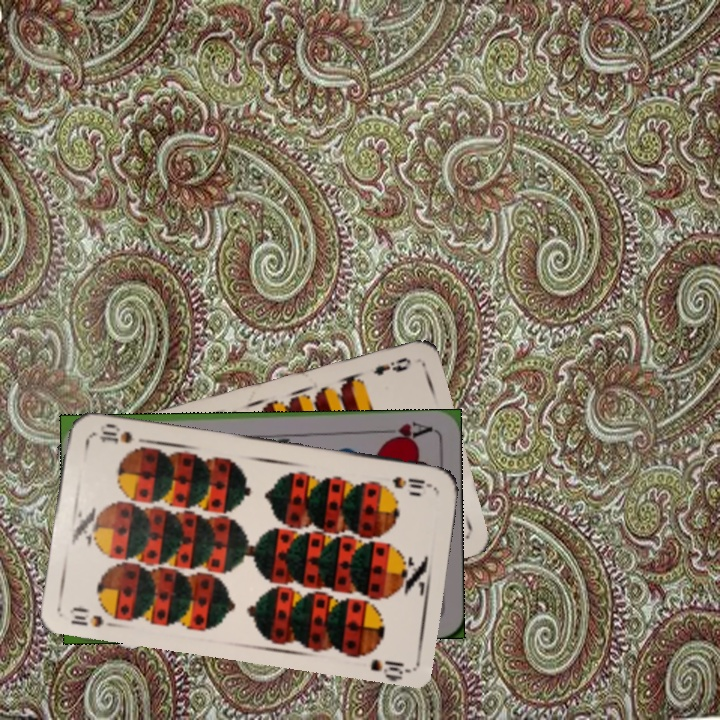E9: (369, 353, 414, 378)
HA: (376, 418, 435, 444)
S10: (65, 603, 121, 630), (388, 472, 435, 492)
